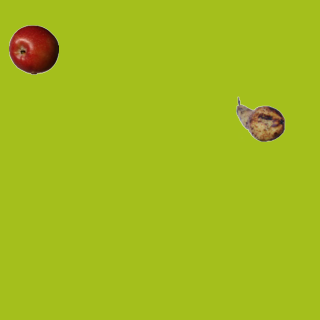Apple Braeburn: (8, 24, 58, 74)
Pear Abate: (235, 94, 285, 144)
